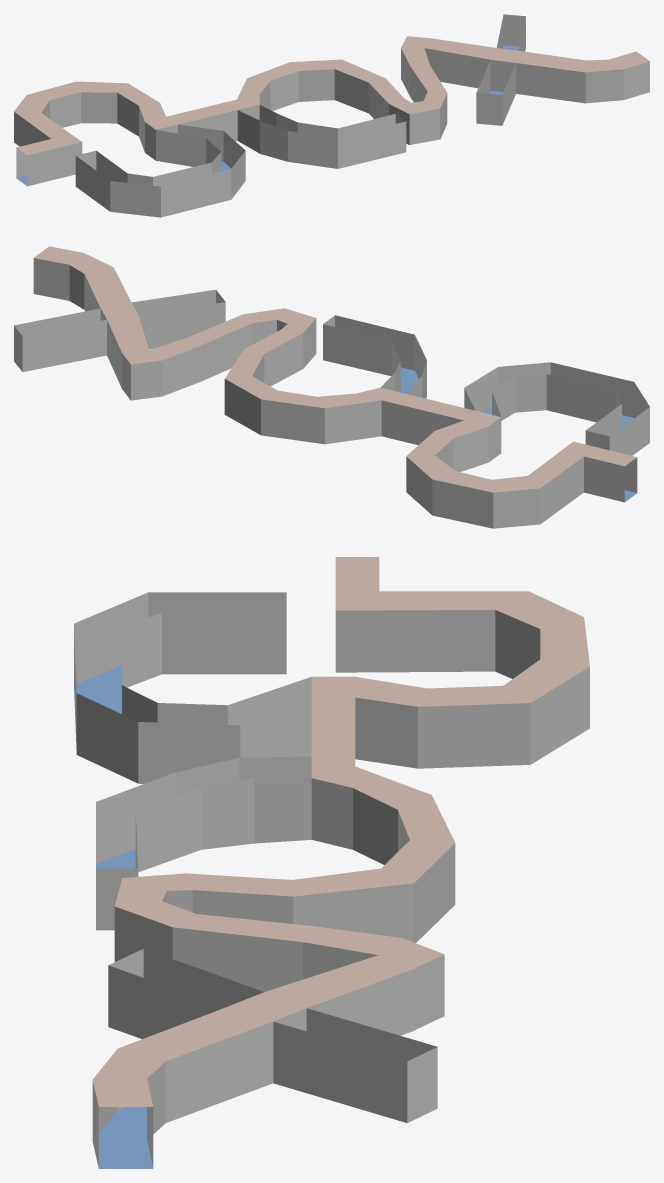
The model's file is baxtext.fbx.
3 views of the same model, one above another, from view 1: azimuth 30°, elevation 25°; view 2: azimuth 150°, elevation 25°; view 3: azimuth 270°, elevation 25° (orthographic). The views are drawn at different scales.
Parts seen in each view (by area): view 1: bax-text; view 2: bax-text; view 3: bax-text.
Boxes of the visible parts, x1,y1,x2,y2 form: bax-text: [14, 14, 649, 217]; bax-text: [14, 246, 649, 528]; bax-text: [74, 557, 589, 1168].
Bounding box in the file's own units: 19.08 × 1.07 × 7.57.
